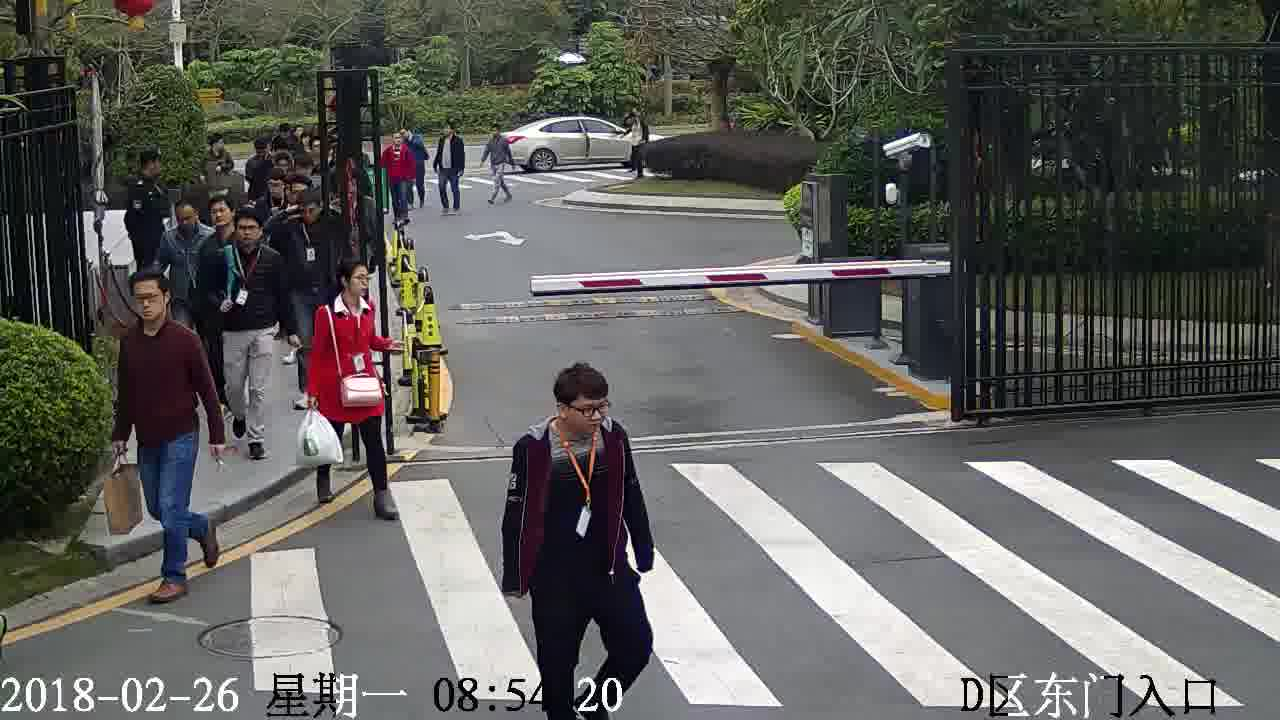face: (563, 391, 610, 436), (129, 281, 169, 321), (343, 262, 371, 301), (233, 216, 262, 249)
person: (513, 360, 637, 478), (115, 265, 199, 357), (314, 255, 377, 322), (217, 206, 281, 269), (280, 186, 341, 241), (164, 192, 217, 246), (124, 147, 171, 201), (253, 167, 293, 212), (203, 193, 239, 242), (195, 132, 230, 166), (245, 136, 277, 172), (381, 129, 417, 156), (437, 121, 466, 148), (486, 123, 509, 146)
